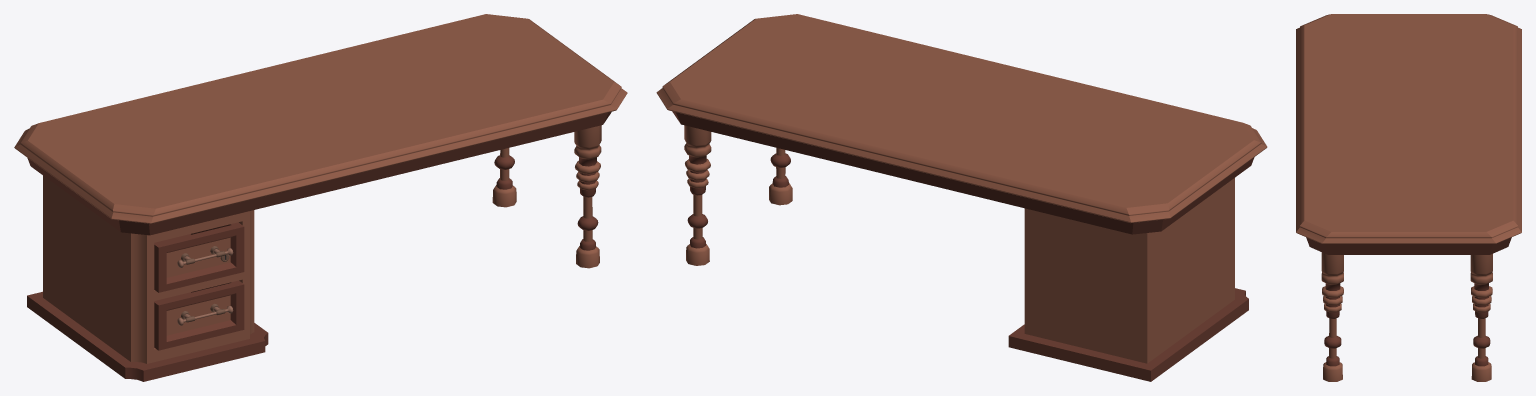
The model's file is Table.fbx.
3 renders of one model, left to right at view 1: azimuth 30°, elevation 25°; view 2: azimuth 150°, elevation 25°; view 3: azimuth 270°, elevation 25°, orthographic. The views are drawn at different scales.
Visible parts, largest first — view 1: Table_Research, Key_Hole, Cube.003; view 2: Table_Research; view 3: Table_Research.
Part boxes in pixels (x1,y1,x2,y2): Table_Research: (14,14,627,381); Key_Hole: (154,222,244,292); Cube.003: (154,280,244,350); Table_Research: (656,14,1267,381); Table_Research: (1296,14,1521,381).
Bounding box in the file's own units: 347 × 113 × 147.
